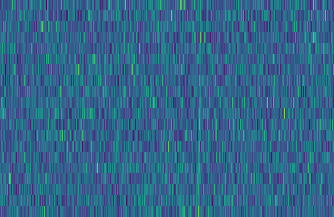signal: (194, 0, 205, 217)
